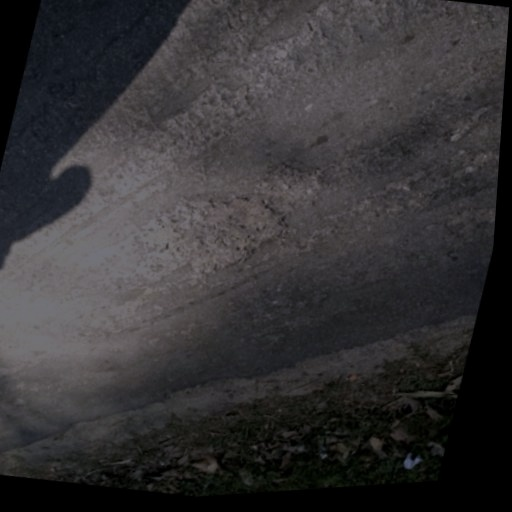pothole: (130, 176, 301, 300), (250, 152, 328, 209)
